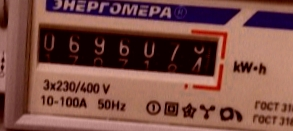0: (141, 37, 158, 61), (41, 31, 57, 53)
4: (190, 55, 204, 77)
6: (66, 32, 82, 55), (116, 37, 132, 58)
7: (166, 42, 183, 64)
9: (91, 35, 106, 57)
screen: (22, 13, 233, 90)
